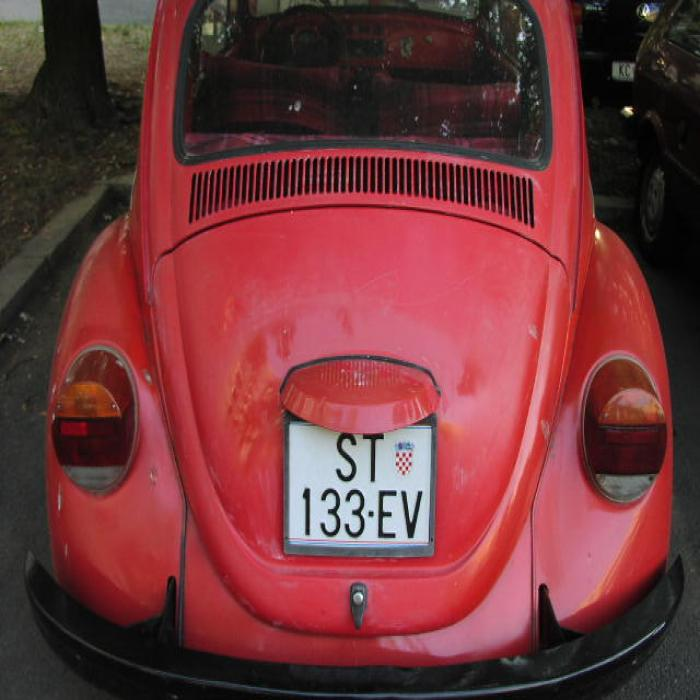number_plate: (286, 423, 428, 545)
